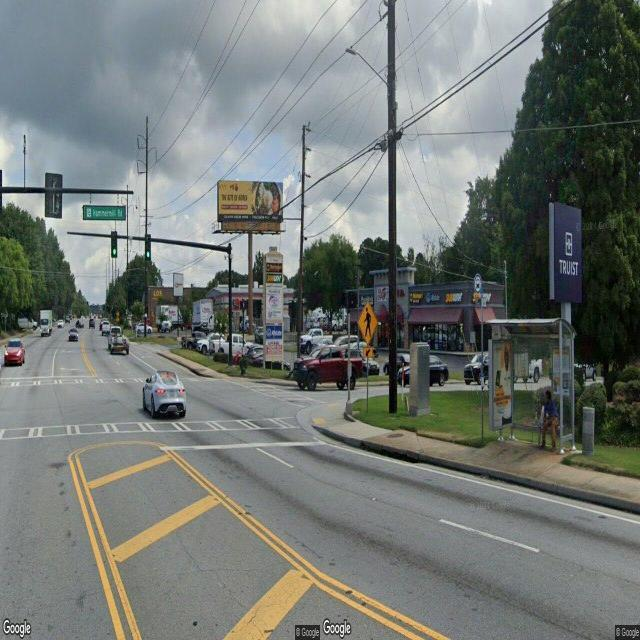seating: (534, 424, 557, 451)
shelter: (487, 318, 577, 459)
trash_can: (581, 404, 595, 456)
